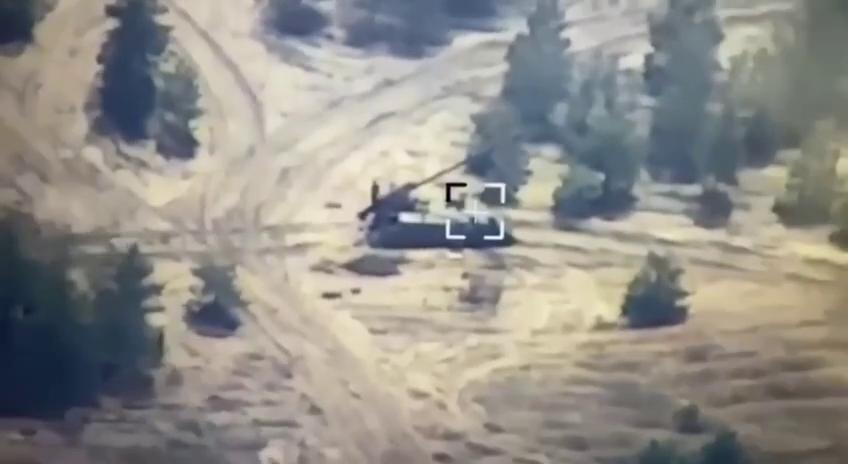tank: (358, 155, 517, 251)
